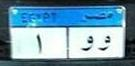1: (34, 32, 43, 55)
waw: (97, 32, 112, 54), (79, 34, 95, 53)
